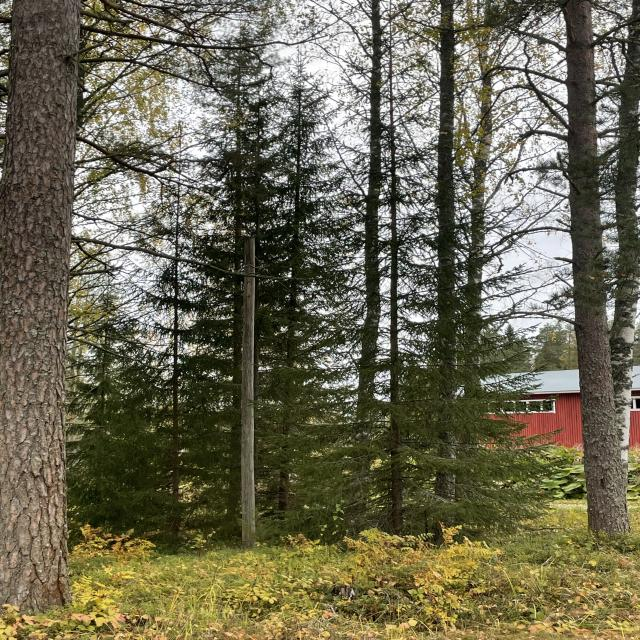spruce: (156, 10, 360, 554), (271, 73, 373, 554), (383, 272, 557, 552), (59, 292, 189, 555)
